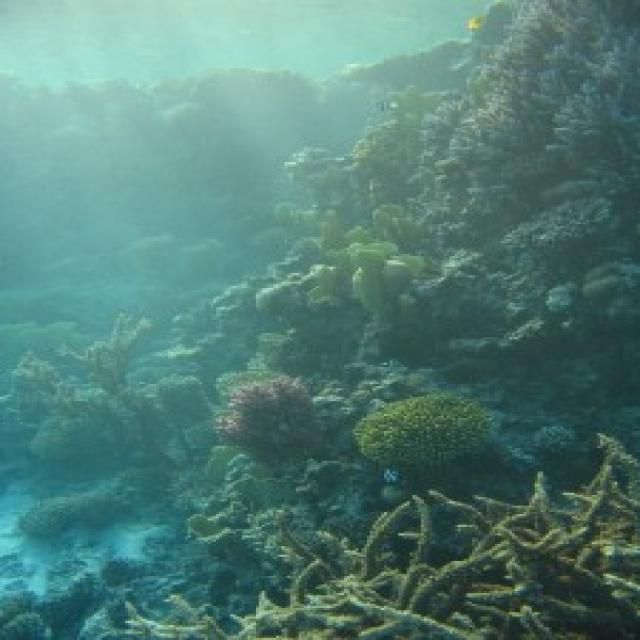Healthy: (120, 438, 638, 639), (422, 1, 638, 312), (257, 97, 436, 336), (408, 199, 638, 383), (192, 455, 357, 600), (359, 394, 490, 470), (217, 379, 317, 464)
